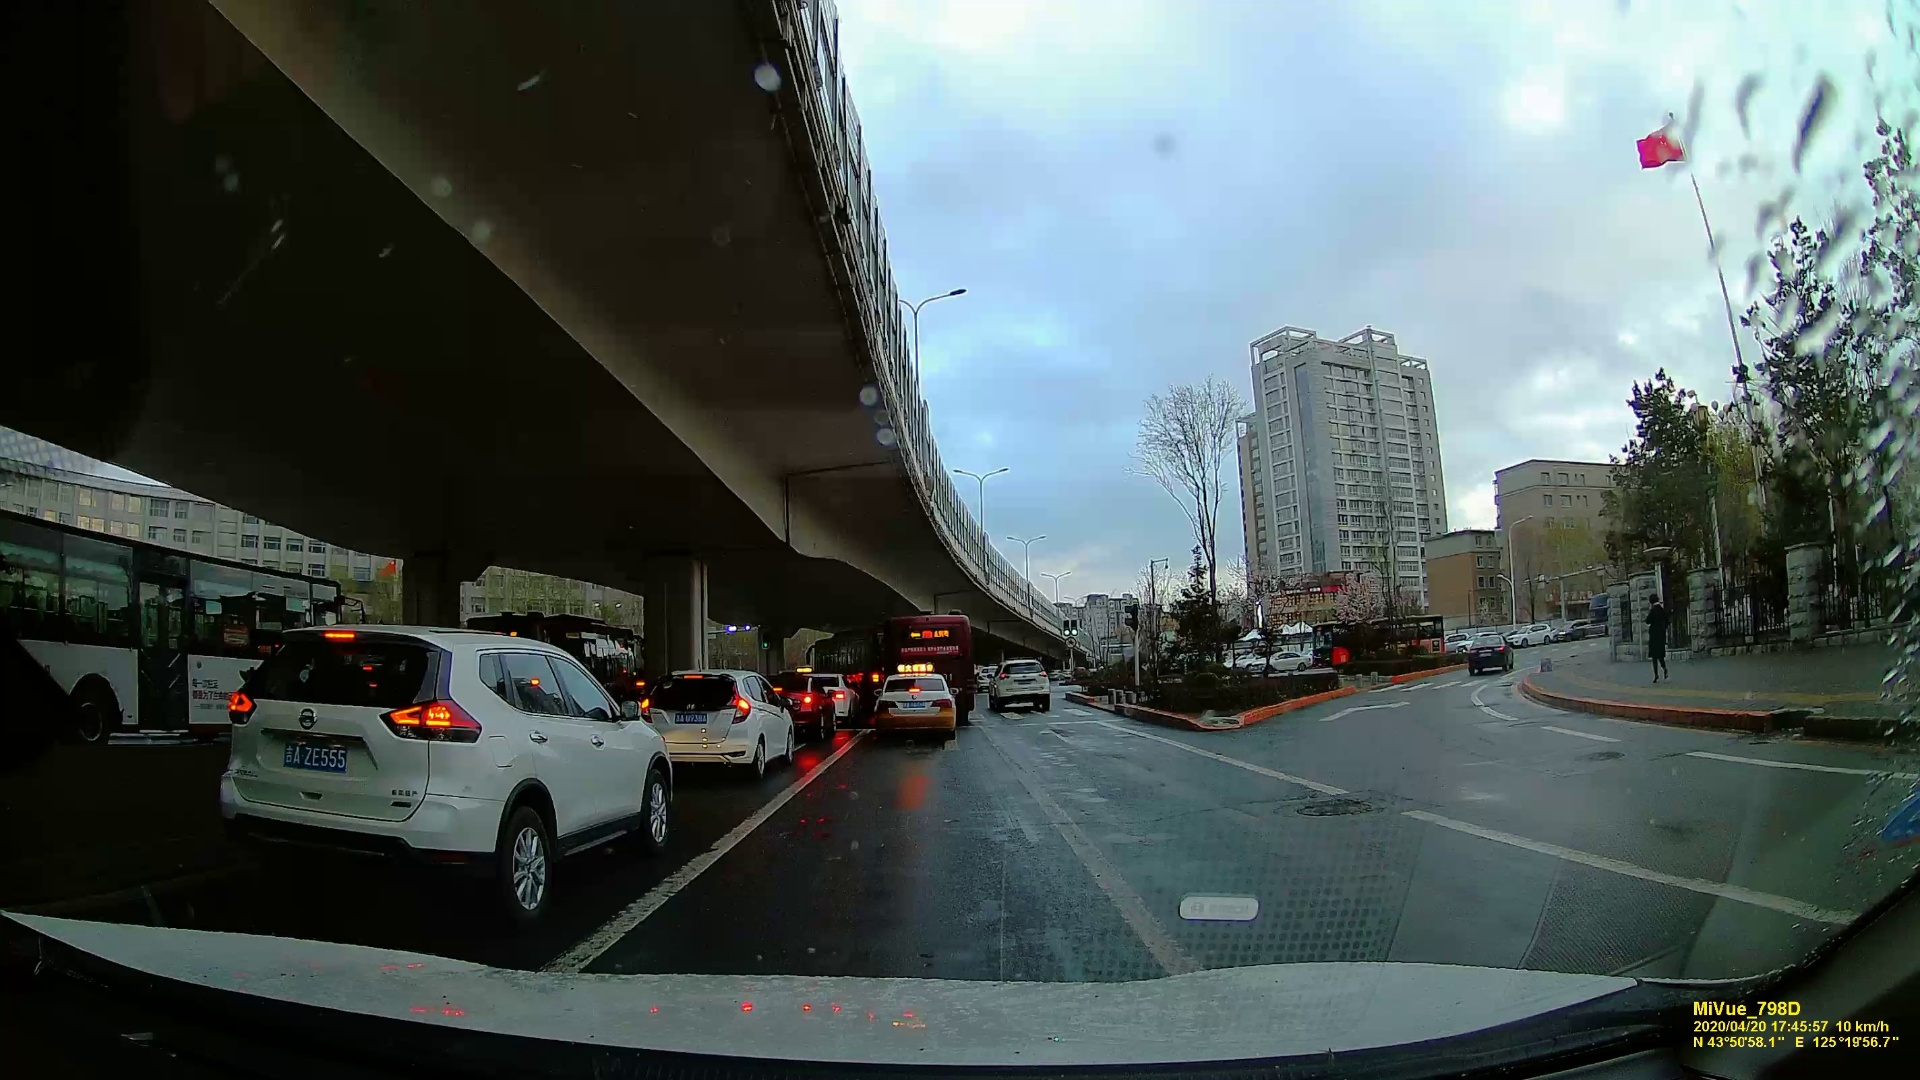bus: (0, 514, 348, 734), (868, 614, 966, 726)
person: (1640, 590, 1670, 690)
vehicle: (218, 612, 671, 900), (638, 665, 795, 774), (870, 671, 957, 743), (986, 658, 1055, 712), (1465, 634, 1517, 675)
